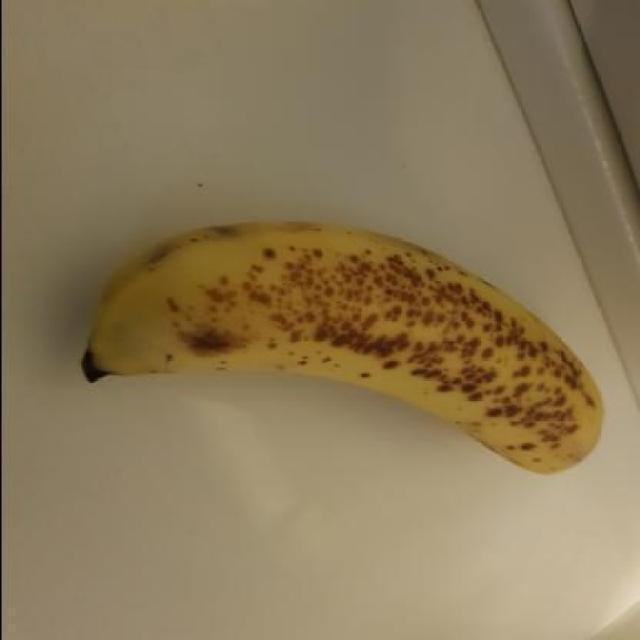Banana: (71, 211, 612, 478)
